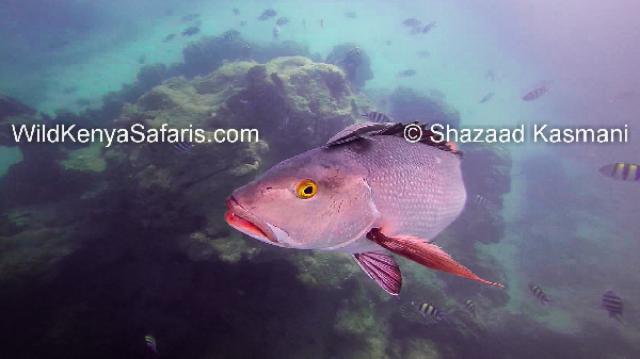Mulut: (210, 182, 294, 262)
Sirip Dada: (354, 214, 518, 298)
Sirip Perut: (342, 245, 408, 308)
Sirip Punggung: (312, 107, 482, 175)
